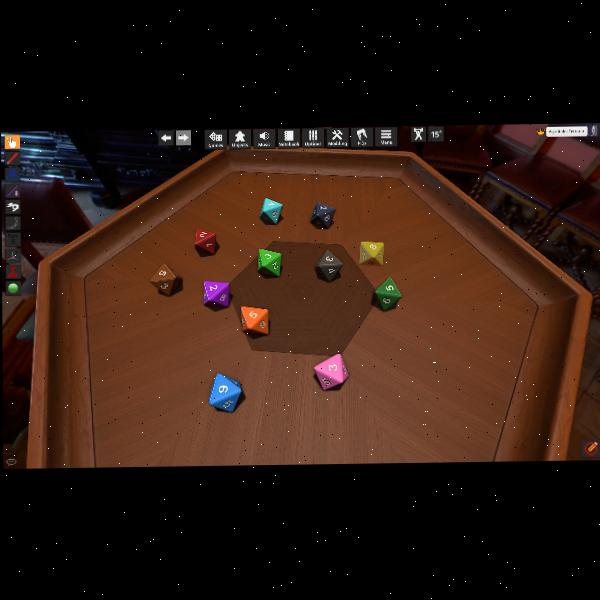d8: (209, 372, 243, 411), (314, 352, 347, 388), (150, 263, 180, 296), (315, 249, 343, 281), (374, 277, 401, 310), (241, 304, 268, 332), (257, 247, 281, 277), (204, 280, 229, 306), (311, 202, 335, 229), (359, 240, 383, 267), (260, 196, 283, 224), (193, 227, 214, 253)
